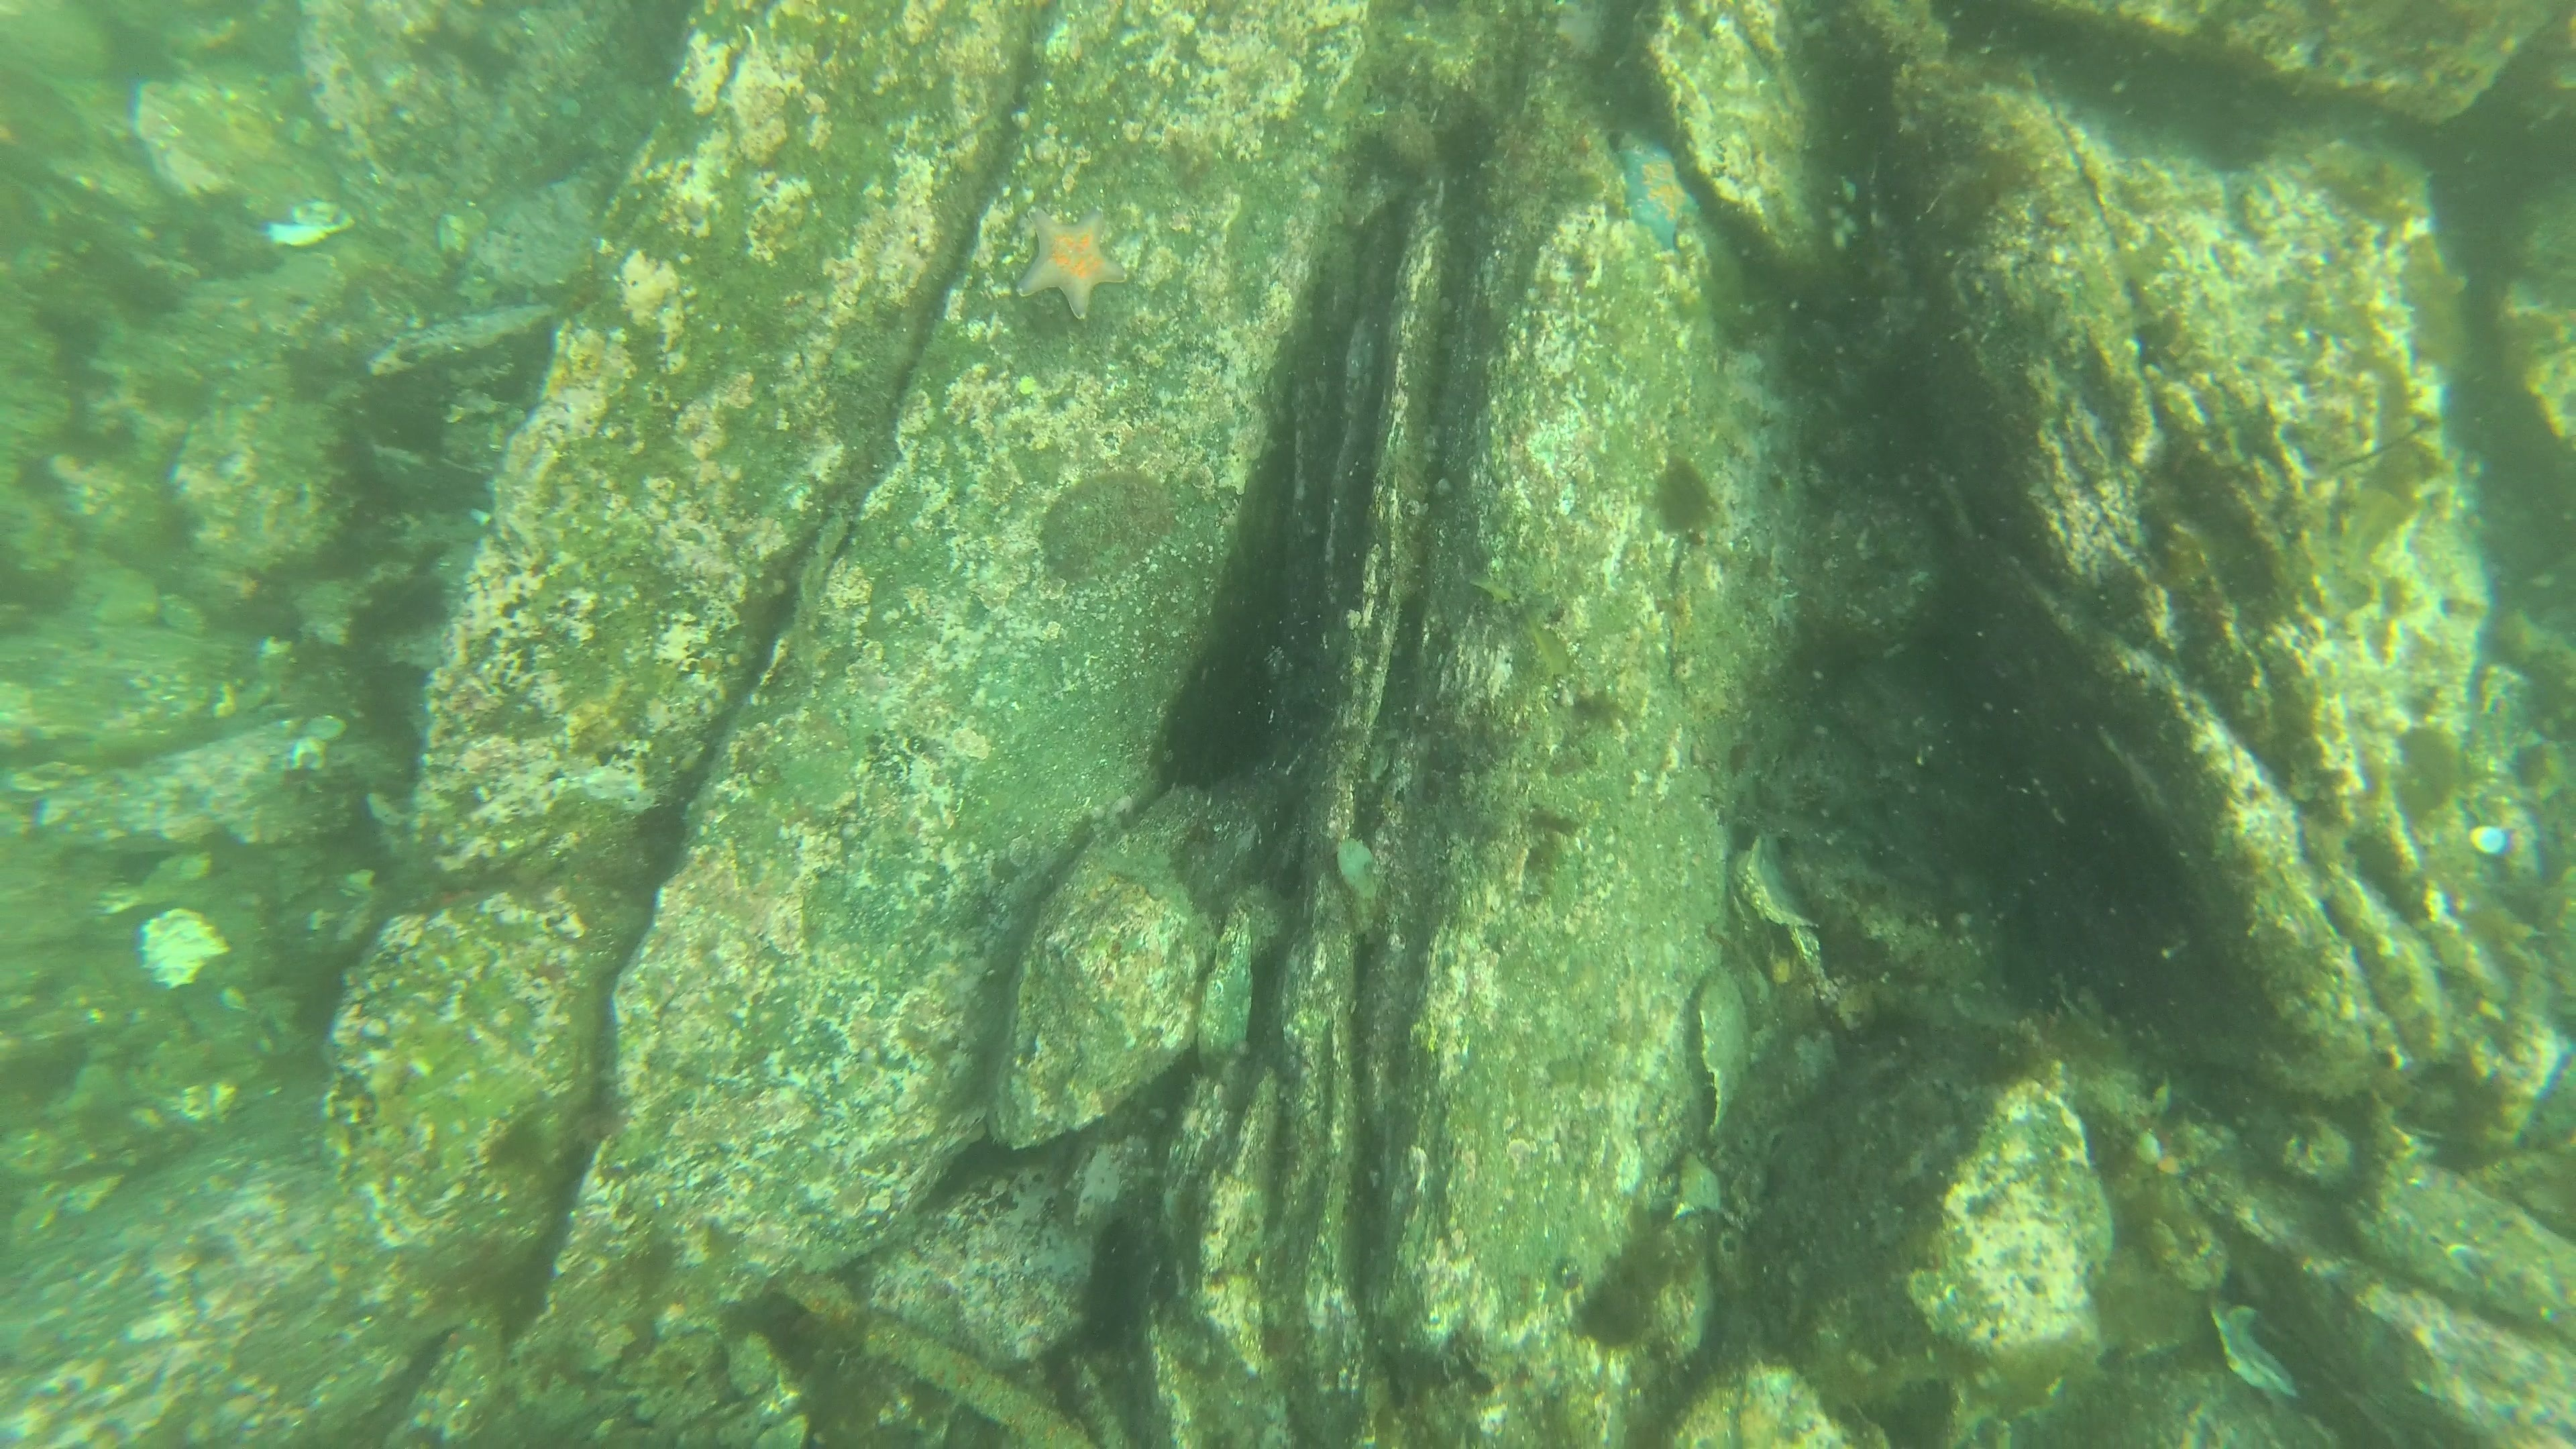echinus: (1146, 651, 1288, 796)
starfish: (1007, 202, 1138, 324), (1599, 120, 1709, 260)
